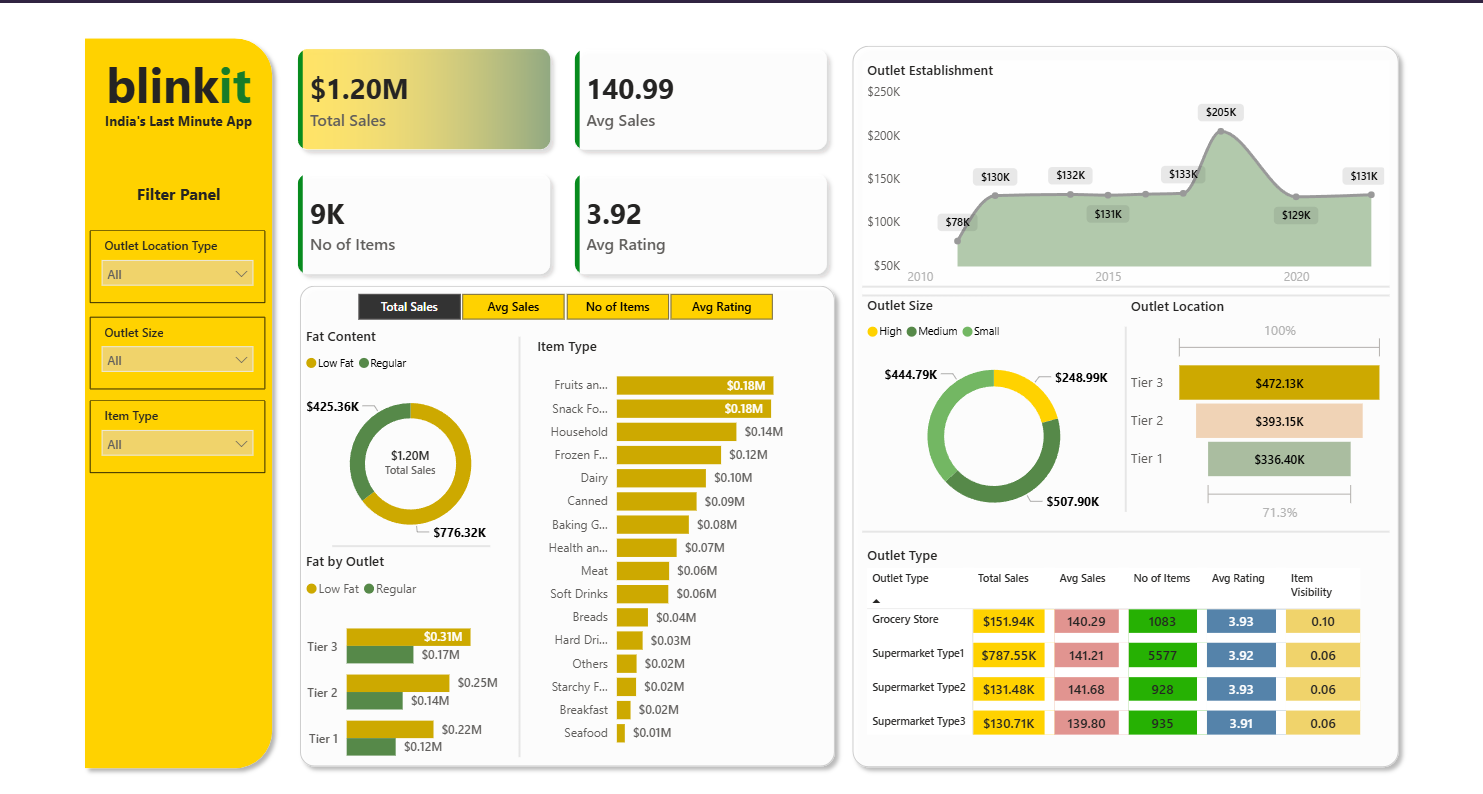

The dashboard page shown, as its layout file describes it:
{"tool":"powerbi","page":{"name":"Page 1","canvas":[1400,800],"ordinal":0},"visuals":[{"type":"shape","box":[0,25.7,205.7,750],"z":0},{"type":"textbox","box":[10,44.3,185.7,75.7],"z":1000},{"type":"textbox","box":[10,104.3,185.7,31.4],"z":2000},{"type":"cardVisual","fields":{"Data":["BlinkIT Grocery Data.Total Sales","BlinkIT Grocery Data.Avg Sales","BlinkIT Grocery Data.No of Items","BlinkIT Grocery Data.Avg Rating"]},"box":[206,23.4,570,270],"z":3000},{"type":"shape","box":[215.1,274.6,554.3,500],"z":4000},{"type":"donutChart","title":"Fat Content","fields":{"Y":["BlinkIT Grocery Data.Total Sales"],"Category":["BlinkIT Grocery Data.Item Fat Content"]},"box":[225.1,324.6,220,230],"z":5000},{"type":"slicer","fields":{"Values":["Metrics.Metrics"]},"box":[257.1,284.3,465.7,40],"z":6000},{"type":"cardVisual","fields":{"Data":["BlinkIT Grocery Data.Total Sales"]},"box":[312.3,450.3,77.1,41.4],"z":7000},{"type":"clusteredBarChart","title":"Fat by Outlet","fields":{"Y":["BlinkIT Grocery Data.Total Sales"],"Category":["BlinkIT Grocery Data.Outlet Location Type"],"Series":["BlinkIT Grocery Data.Item Fat Content"]},"box":[225.7,550,220,230],"z":8000},{"type":"shape","box":[256.6,508.9,158.6,71.4],"z":9000},{"type":"shape","box":[416.6,334.6,57.1,421.4],"z":10000},{"type":"barChart","title":"Item Type","fields":{"Y":["BlinkIT Grocery Data.Total Sales"],"Category":["BlinkIT Grocery Data.Item Type"]},"box":[458,334.6,288.6,421.4],"z":11000},{"type":"shape","box":[770,34.3,565.7,741.4],"z":12000},{"type":"lineChart","title":"Outlet Establishment","fields":{"Y":["BlinkIT Grocery Data.Total Sales"],"Category":["BlinkIT Grocery Data.Outlet Establishment Year"]},"box":[788.6,57.1,528.6,235.7],"z":13000},{"type":"donutChart","title":"Outlet Size","fields":{"Y":["BlinkIT Grocery Data.Total Sales"],"Series":["BlinkIT Grocery Data.Outlet Size"]},"box":[788.6,292.9,264.3,237.1],"z":14000},{"type":"shape","box":[1024.3,324.3,57.1,185.7],"z":15000},{"type":"funnel","title":"Outlet Location","fields":{"Y":["Sum(BlinkIT Grocery Data.Sales)"],"Category":["BlinkIT Grocery Data.Outlet Location Type"]},"box":[1052.9,294.3,264.3,231.4],"z":16000},{"type":"shape","box":[788.6,264.3,528.6,40],"z":17000},{"type":"shape","box":[788.6,510,528.6,40],"z":17001},{"type":"pivotTable","title":"Outlet Type","fields":{"Rows":["BlinkIT Grocery Data.Outlet Type"],"Values":["BlinkIT Grocery Data.Total Sales","BlinkIT Grocery Data.Avg Sales","BlinkIT Grocery Data.No of Items","BlinkIT Grocery Data.Avg Rating","Avg(BlinkIT Grocery Data.Item Visibility)"]},"box":[788.6,544.3,528.6,215.7],"z":17002},{"type":"slicer","fields":{"Values":["BlinkIT Grocery Data.Outlet Location Type"]},"box":[14.3,228.6,175.7,72.9],"z":17003},{"type":"shape","box":[788.6,272.9,528.6,40],"z":17004},{"type":"slicer","fields":{"Values":["BlinkIT Grocery Data.Outlet Size"]},"box":[14.3,314.3,175.7,72.9],"z":17005},{"type":"slicer","fields":{"Values":["BlinkIT Grocery Data.Item Type"]},"box":[14.3,398.6,175.7,72.9],"z":17006},{"type":"textbox","box":[50,175.7,105.7,35.7],"z":17007}]}

Visuals, with their boxes on the page's 1400x800 design canvas (x1, y1, x2, y2). These are canvas units, not pixel positions in the 1483x794 screenshot, which may show the page scaled, cropped or inside an application window:
shape: Rect(0, 26, 206, 776)
textbox: Rect(10, 44, 196, 120)
textbox: Rect(10, 104, 196, 136)
cardVisual - BlinkIT Grocery Data.Total Sales x BlinkIT Grocery Data.Avg Sales: Rect(206, 23, 776, 293)
shape: Rect(215, 275, 769, 775)
"Fat Content" donutChart: Rect(225, 325, 445, 555)
slicer - Metrics.Metrics: Rect(257, 284, 723, 324)
cardVisual - BlinkIT Grocery Data.Total Sales: Rect(312, 450, 389, 492)
"Fat by Outlet" clusteredBarChart: Rect(226, 550, 446, 780)
shape: Rect(257, 509, 415, 580)
shape: Rect(417, 335, 474, 756)
"Item Type" barChart: Rect(458, 335, 747, 756)
shape: Rect(770, 34, 1336, 776)
"Outlet Establishment" lineChart: Rect(789, 57, 1317, 293)
"Outlet Size" donutChart: Rect(789, 293, 1053, 530)
shape: Rect(1024, 324, 1081, 510)
"Outlet Location" funnel: Rect(1053, 294, 1317, 526)
shape: Rect(789, 264, 1317, 304)
shape: Rect(789, 510, 1317, 550)
"Outlet Type" pivotTable: Rect(789, 544, 1317, 760)
slicer - BlinkIT Grocery Data.Outlet Location Type: Rect(14, 229, 190, 302)
shape: Rect(789, 273, 1317, 313)
slicer - BlinkIT Grocery Data.Outlet Size: Rect(14, 314, 190, 387)
slicer - BlinkIT Grocery Data.Item Type: Rect(14, 399, 190, 472)
textbox: Rect(50, 176, 156, 211)
